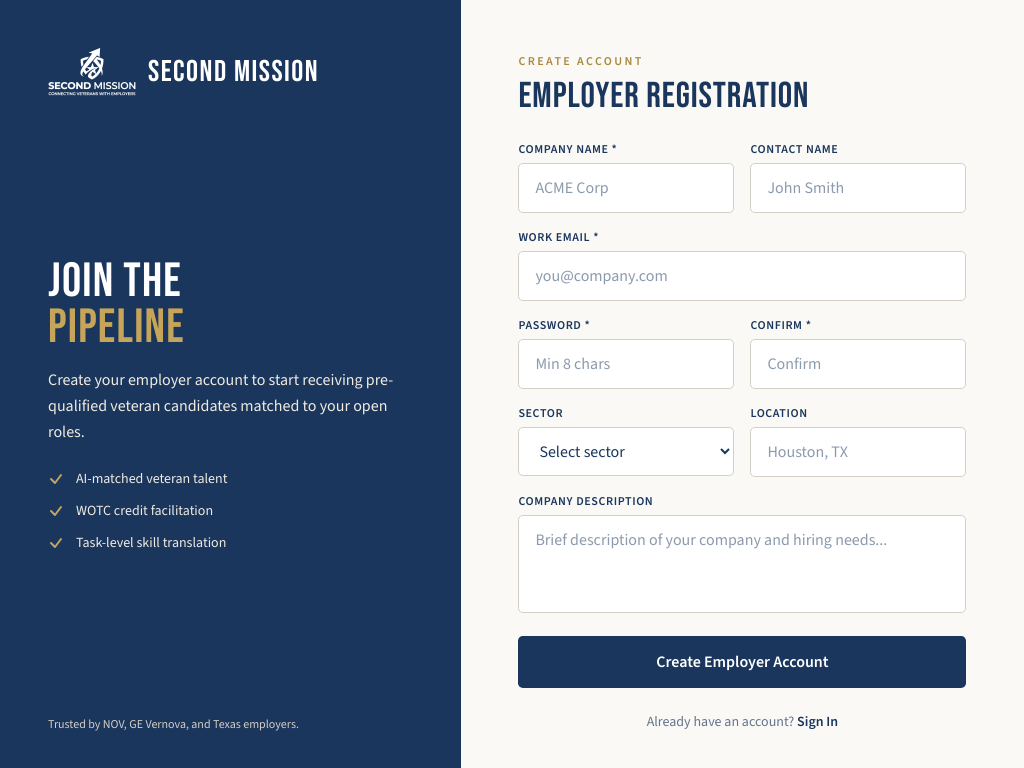
Test case: EmployerRegisterPage › validates password match
The image size is (1024, 768).
Type "Test Corp" into the field with placeholder "ACME Corp".
click(626, 188); type("Test Corp")  # box [518, 163, 734, 213]
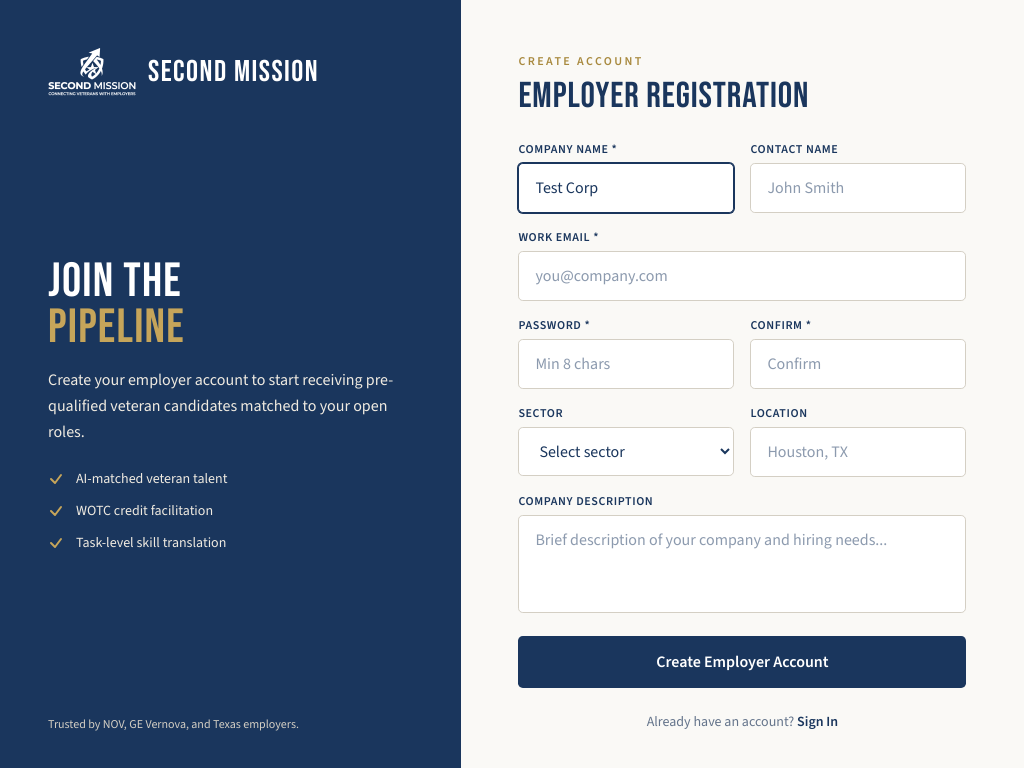
Type "x@test.com" into the field with placeholder "you@company.com".
click(742, 276); type("x@test.com")  # box [518, 251, 966, 301]
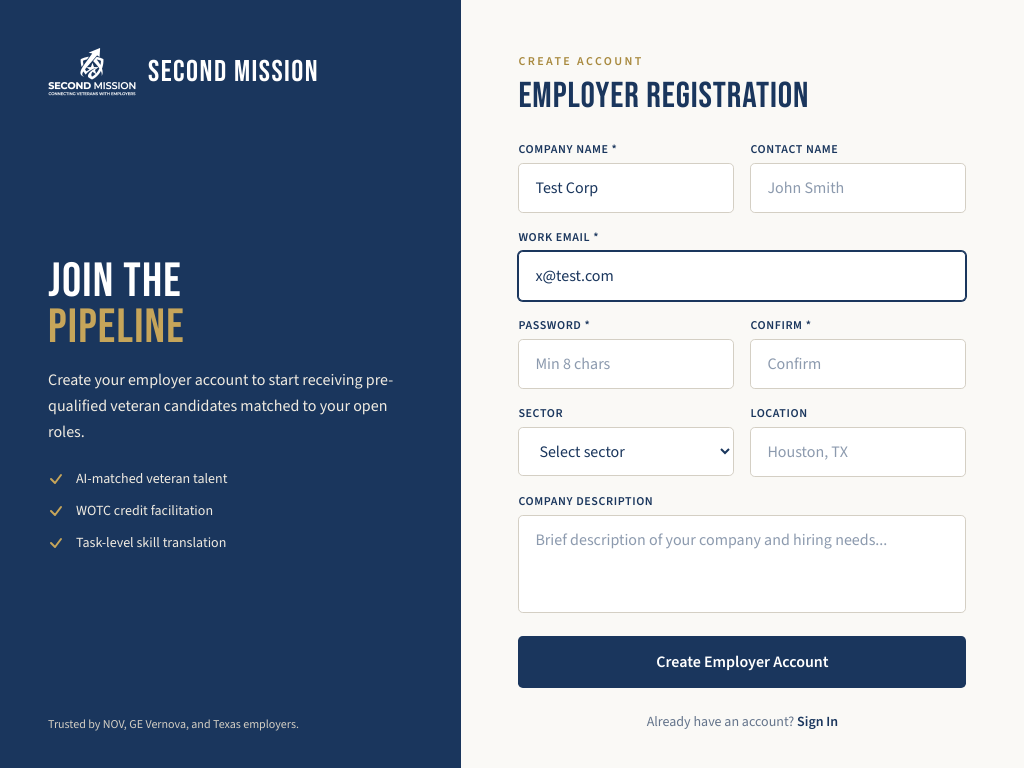
Type "password123" into the password field with placeholder "Min 8 chars".
click(626, 364); type("password123")  # box [518, 339, 734, 389]
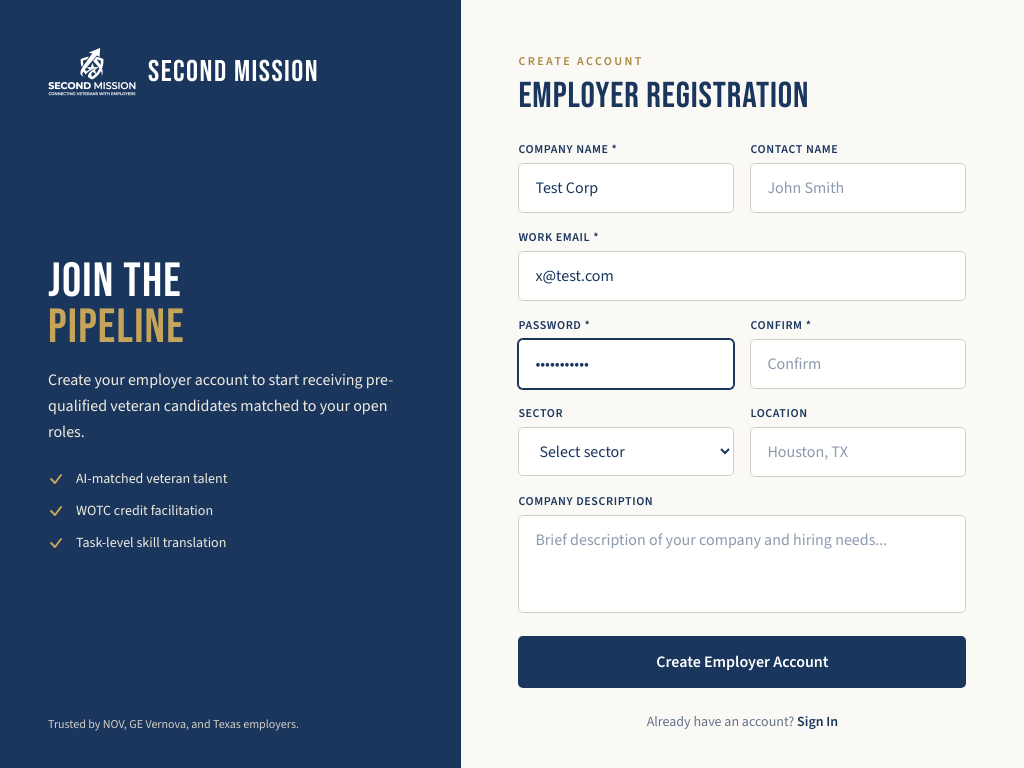
Type "different123" into the password field with placeholder "Confirm".
click(858, 364); type("different123")  # box [750, 339, 966, 389]
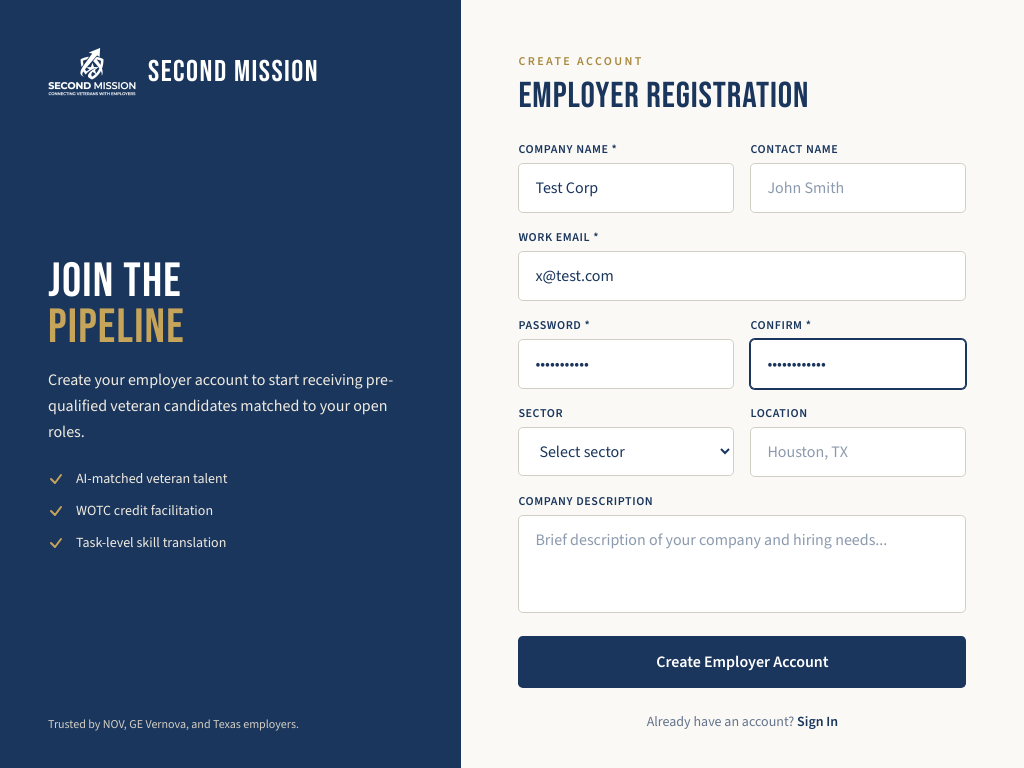
Click the button "Create Employer Account".
click(742, 662)  # box [518, 636, 966, 688]
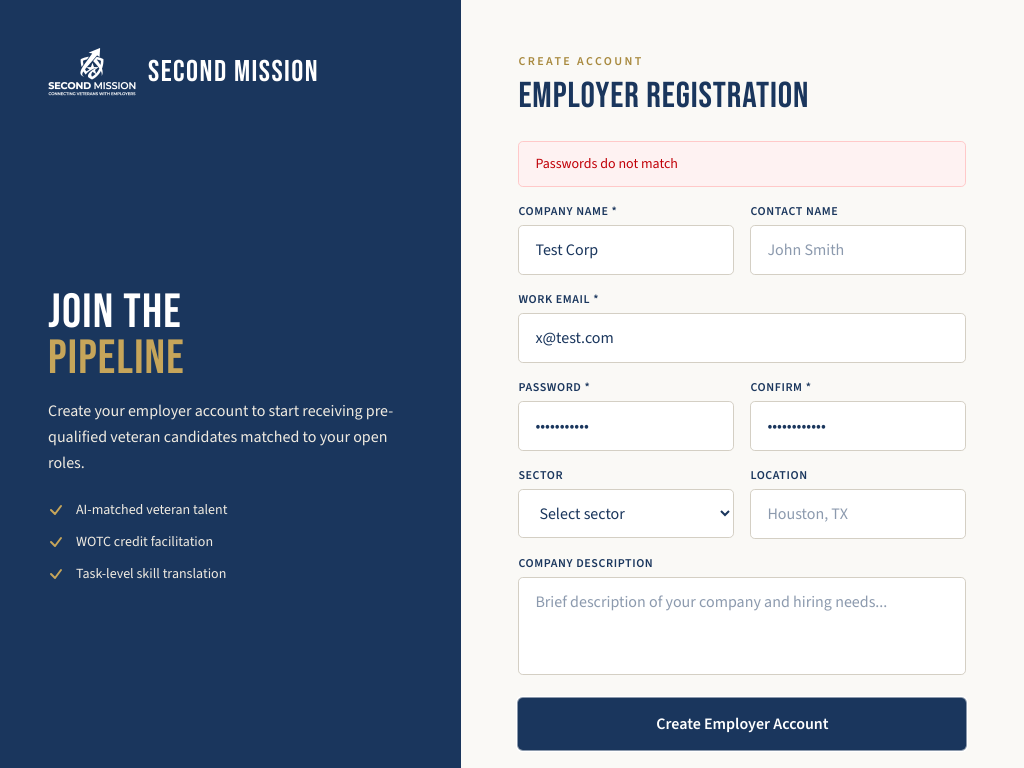
expect the text "Passwords do not match" is shown: met, box [518, 141, 966, 187]
